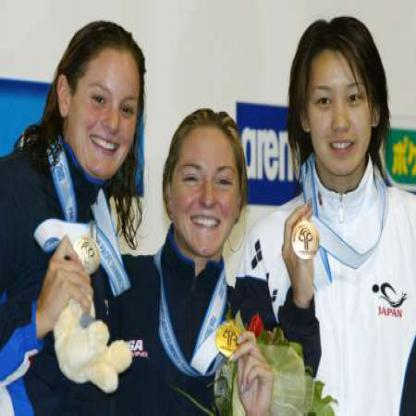face: (71, 30, 144, 182), (306, 24, 375, 178), (172, 114, 241, 260)
